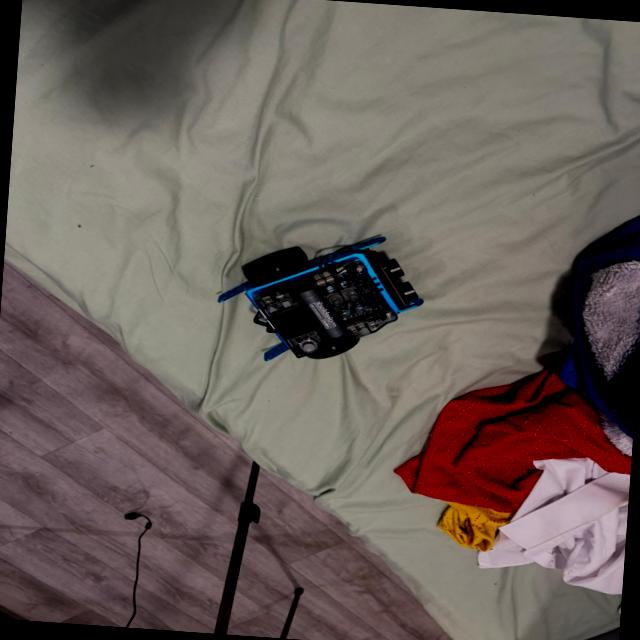mbot-detection: (206, 222, 435, 376)
